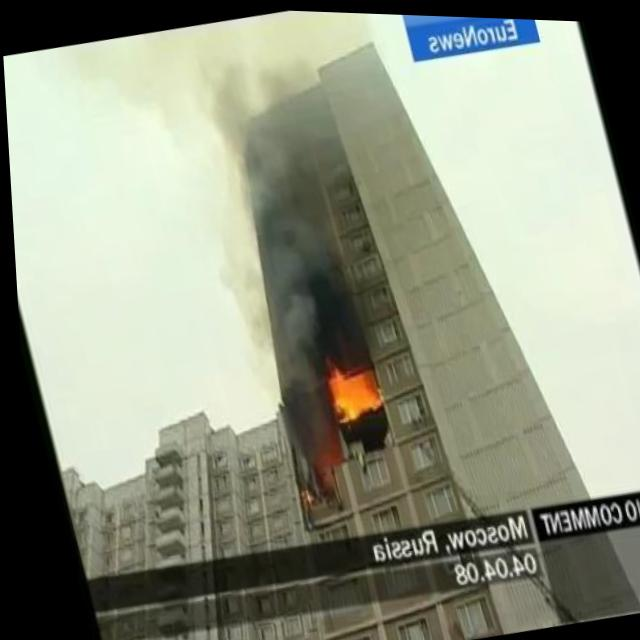fire: (313, 350, 386, 434)
